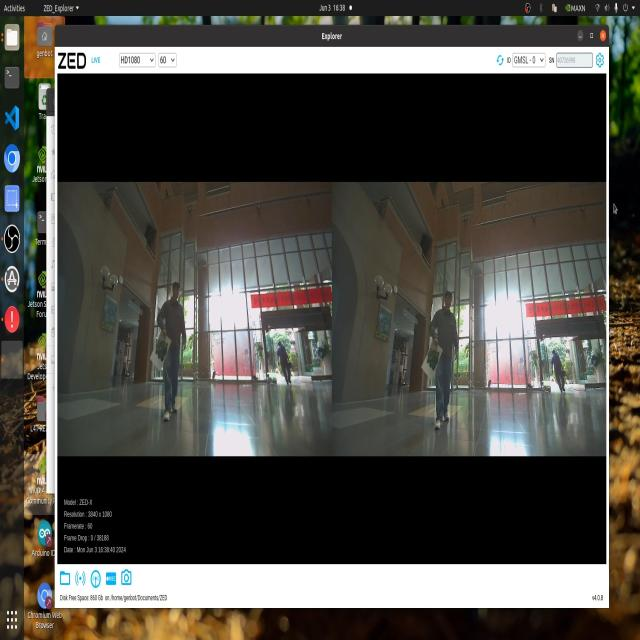green: (155, 337, 169, 365), (424, 344, 437, 373)
